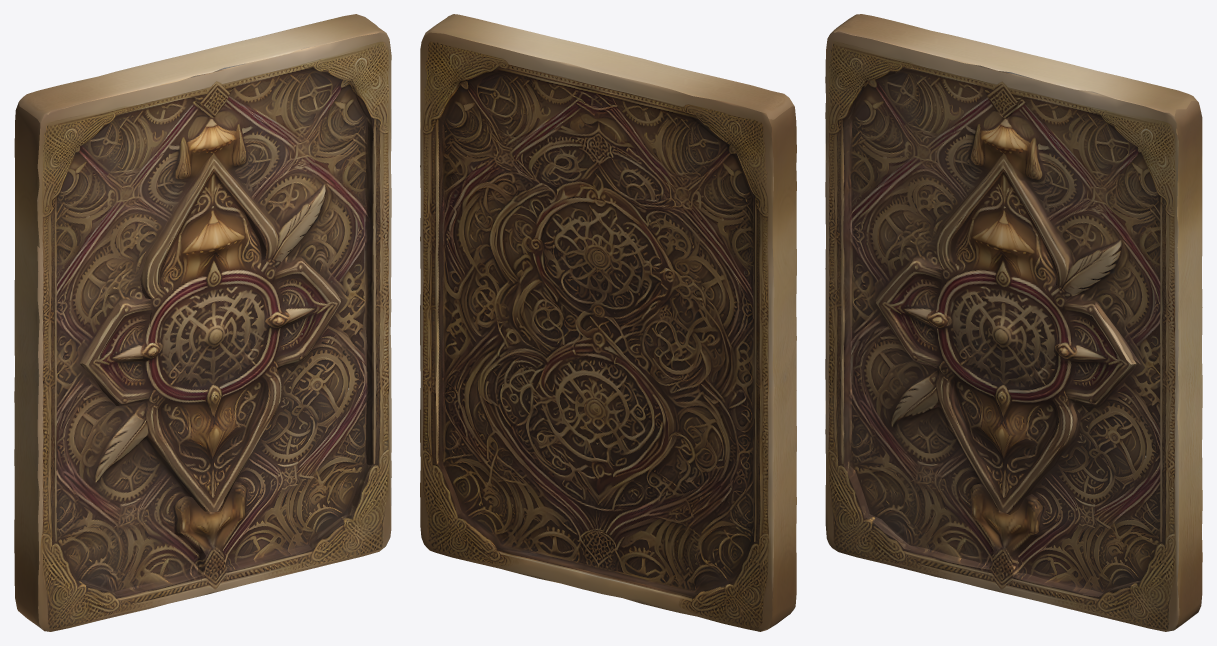
Rendered from Back.fbx.
The picture shows the model from 3 angles, left to right: view 1: azimuth 30°, elevation 25°; view 2: azimuth 150°, elevation 25°; view 3: azimuth 330°, elevation 25°; orthographic projection.
Parts seen in each view (by area): view 1: input; view 2: input; view 3: input.
Boxes of the visible parts, x1,y1,x2,y2 form: input: (14, 14, 391, 631); input: (420, 14, 796, 631); input: (825, 14, 1202, 631).
Bounding box in the file's own units: 70.92 × 99.99 × 9.38.
Materials: 1 (1 with a texture image).
